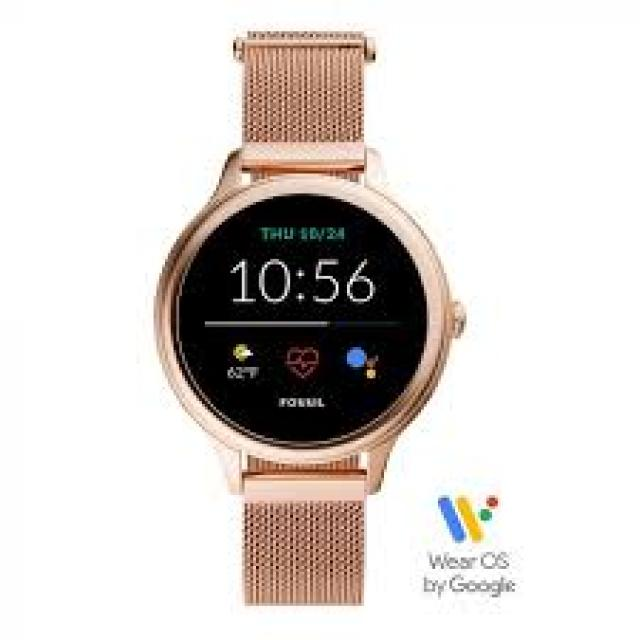objects: (156, 31, 461, 609)
